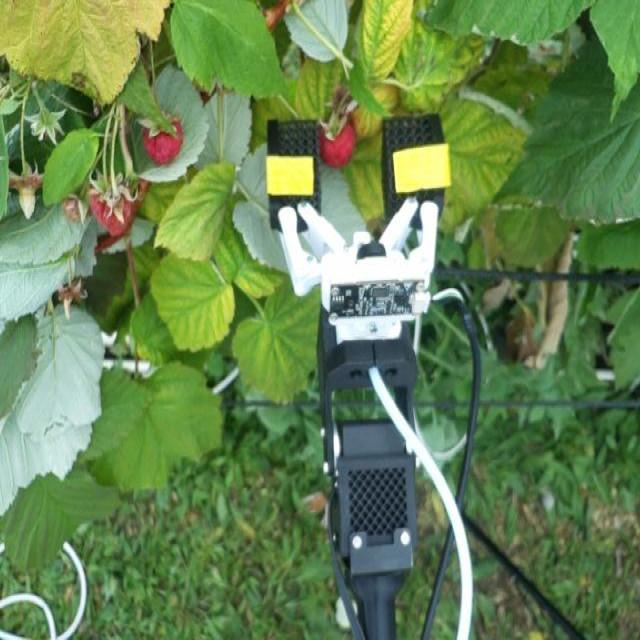Riped berries: (88, 175, 138, 237), (318, 107, 363, 168), (139, 113, 185, 167)
